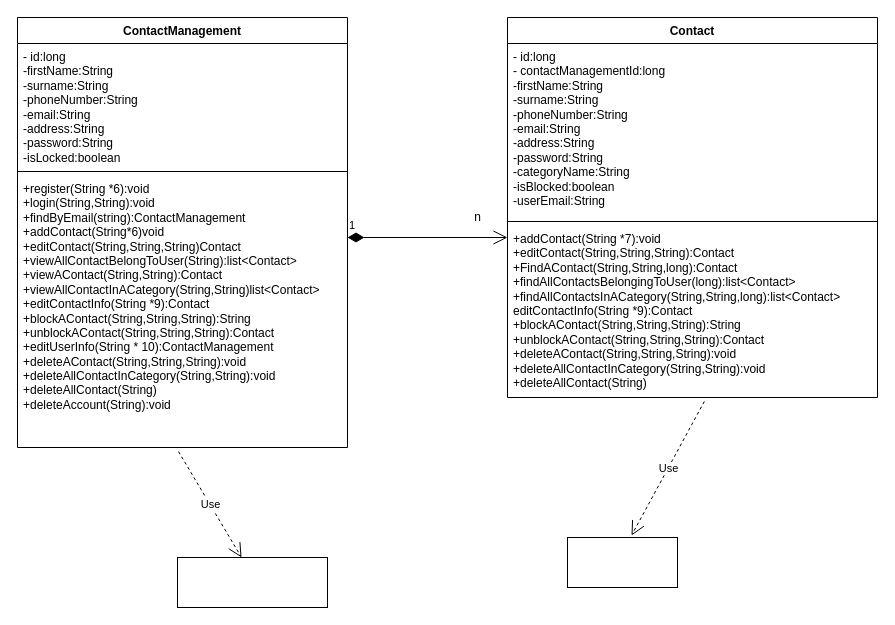
This 895x625 diagram has some shape labels left out. Here are the shapes that lost their labels. From the top down, the centre of each, then its label:
point 252,582: «interface» ContactManagement
point 622,562: «interface» Contact
